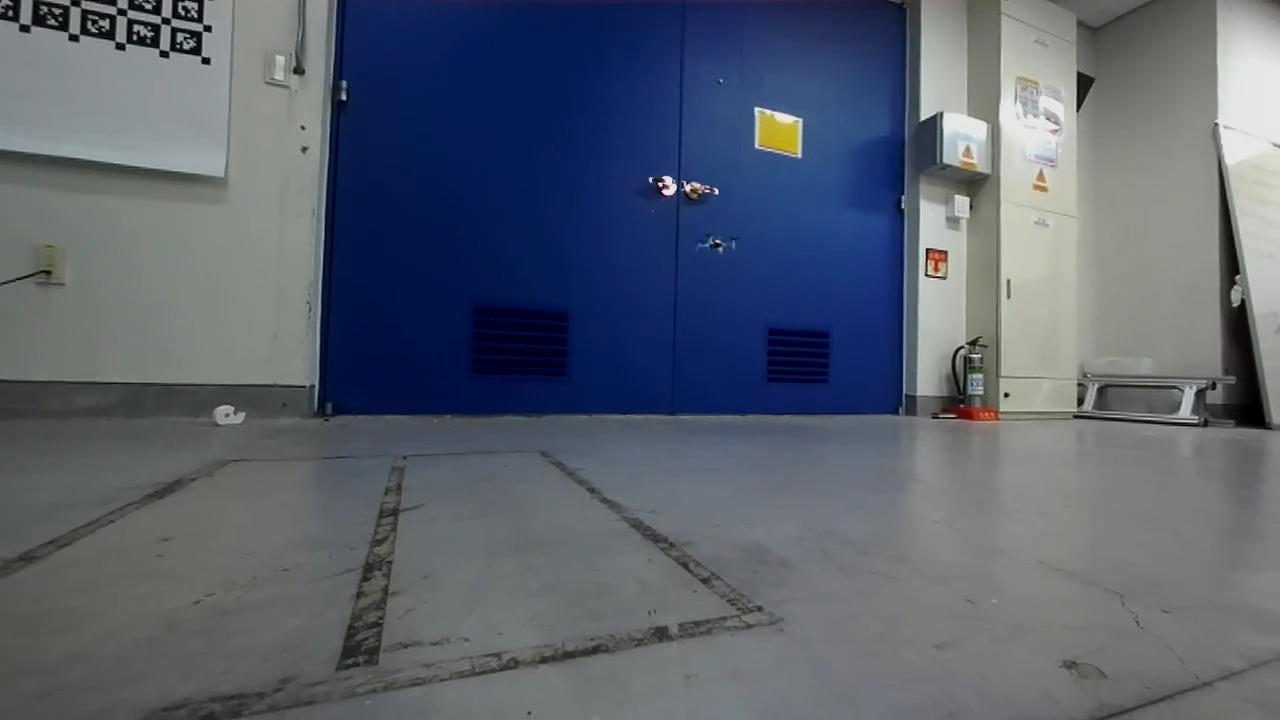crazyflie: (688, 229, 743, 260)
